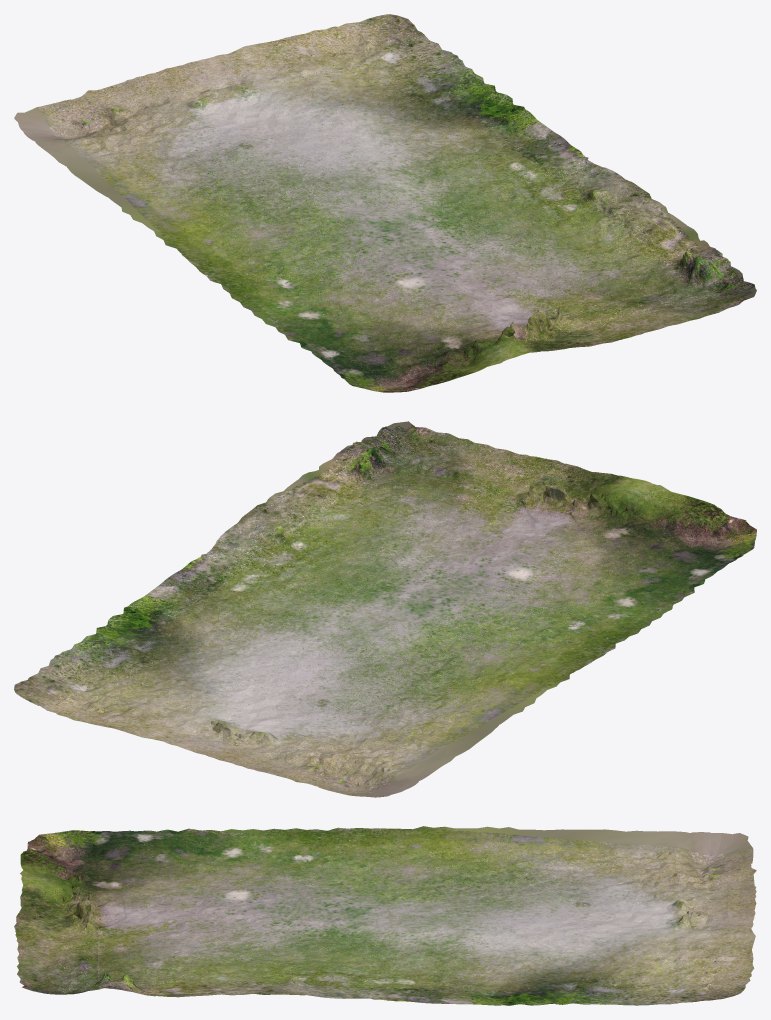
Rendered from field.obj.
3 views of the same model, one above another, from view 1: azimuth 30°, elevation 25°; view 2: azimuth 150°, elevation 25°; view 3: azimuth 270°, elevation 25° (orthographic). The views are drawn at different scales.
Visible parts, largest first — view 1: field; view 2: field; view 3: field.
Boxes of the visible parts, box(x1,y1,x2,y2) form: field: box(14, 14, 756, 392); field: box(14, 421, 756, 797); field: box(14, 826, 756, 1005).
Size of the model in its own units: 18.88 by 1.73 by 31.61.
Materials: 1 (1 with a texture image).
